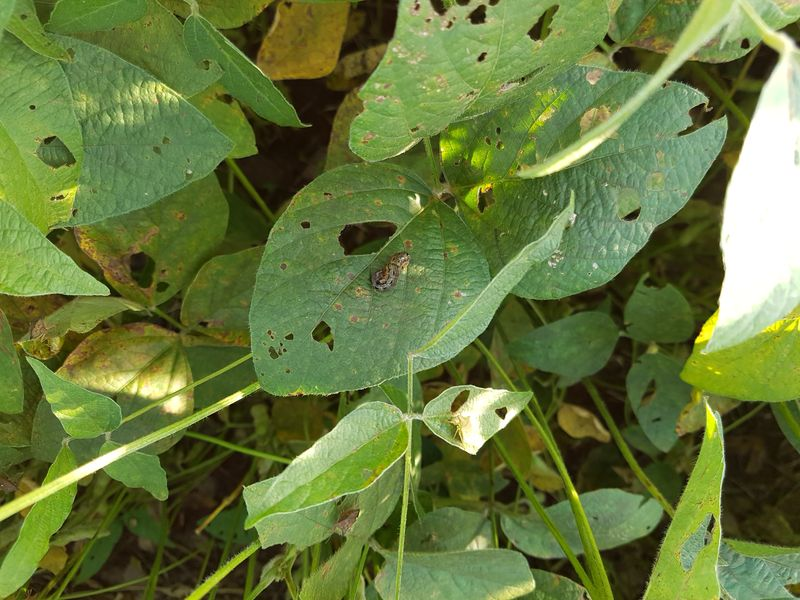Euschistus_heros_adulto: (319, 502, 368, 549)
Euschistus_heros_ninfa: (441, 411, 480, 453)
Spodoptera_albula: (365, 248, 416, 298)
